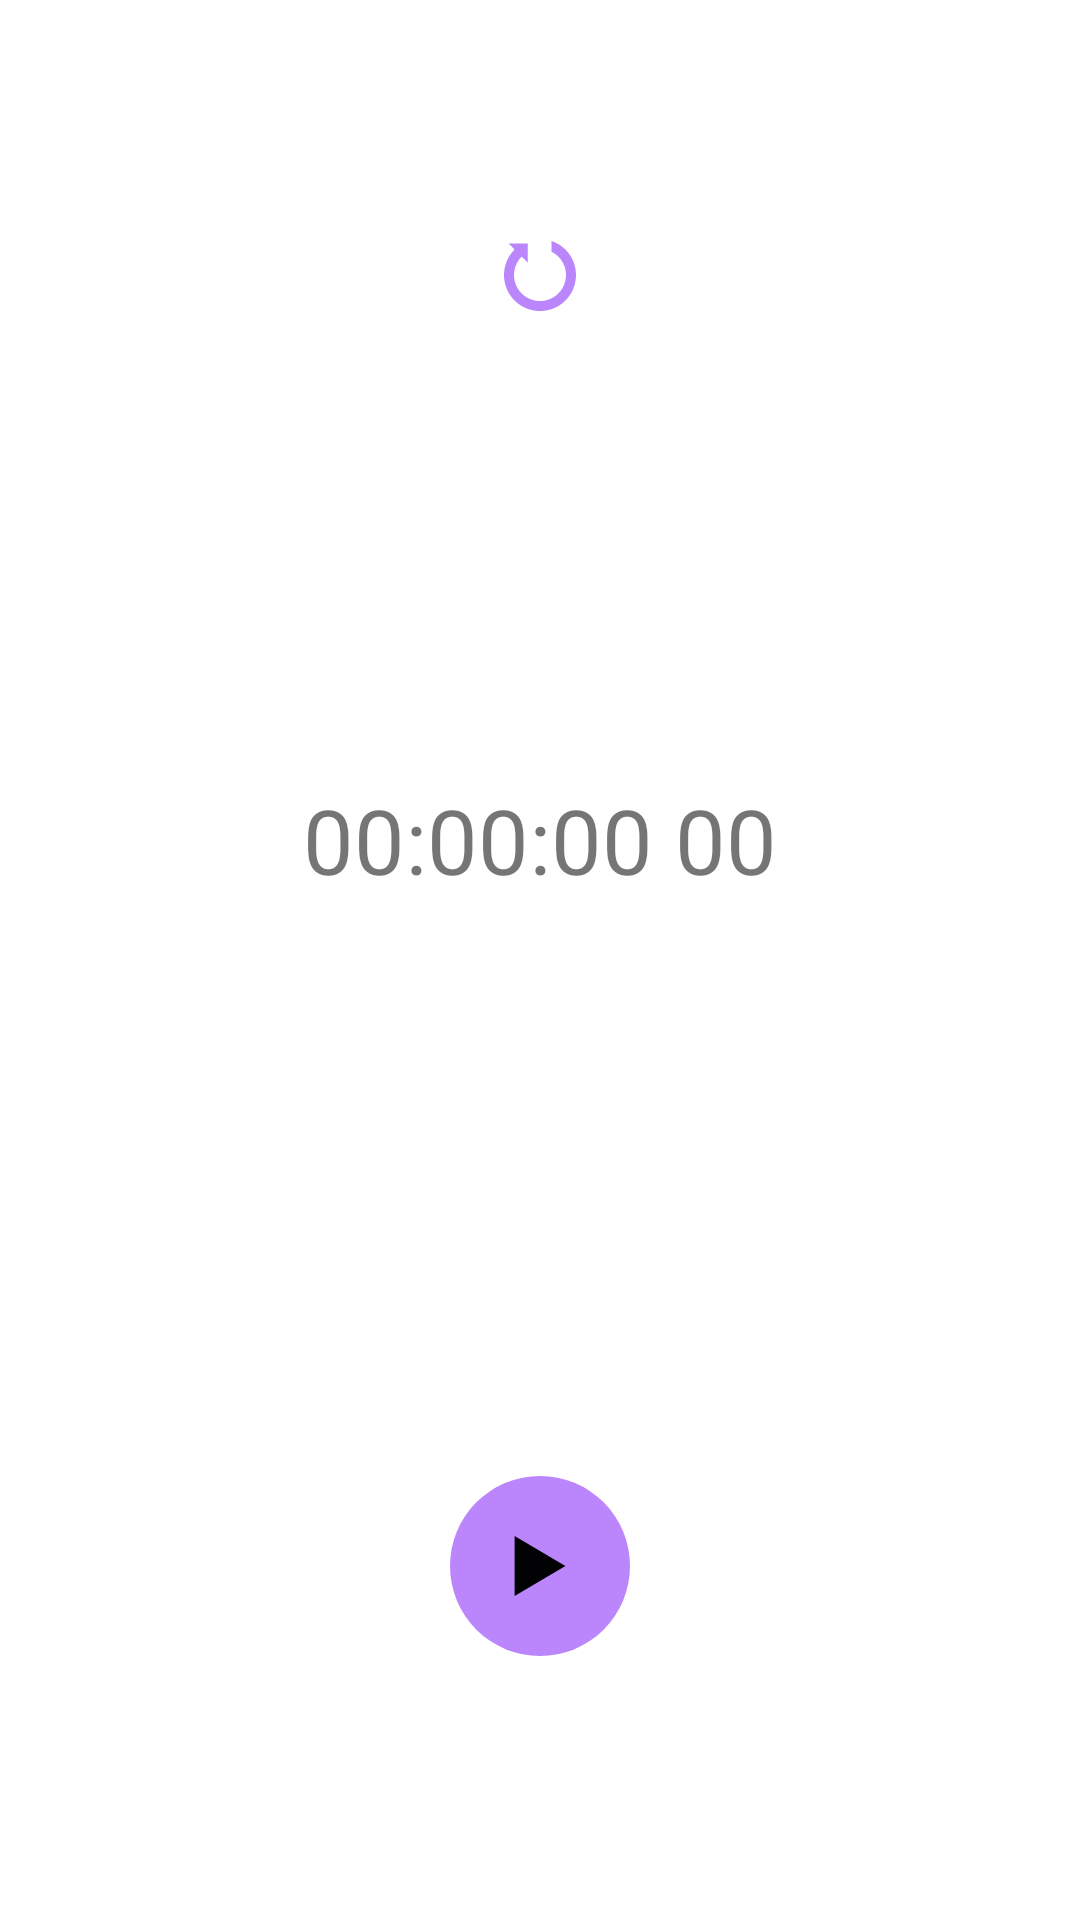

Locate icon controls on the screen. Image size 1080 x 1920, boxes as (x1, y1, x2, y2).
play: (450, 1476, 630, 1656)
restart: (504, 241, 576, 311)
